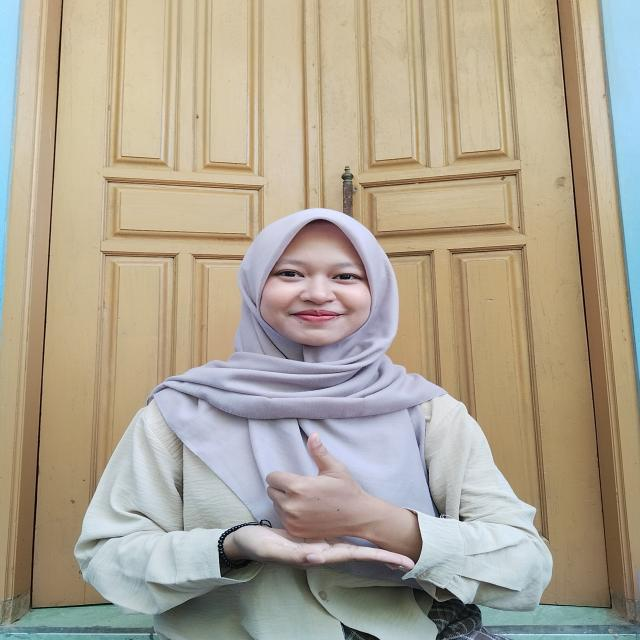cantik: (227, 429, 417, 601)
